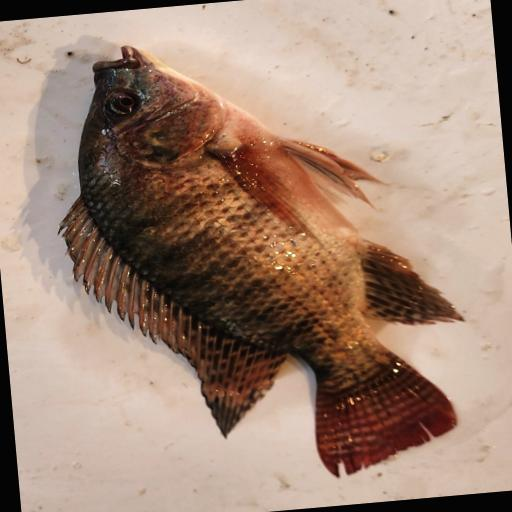Tilapia: (41, 17, 478, 500)
